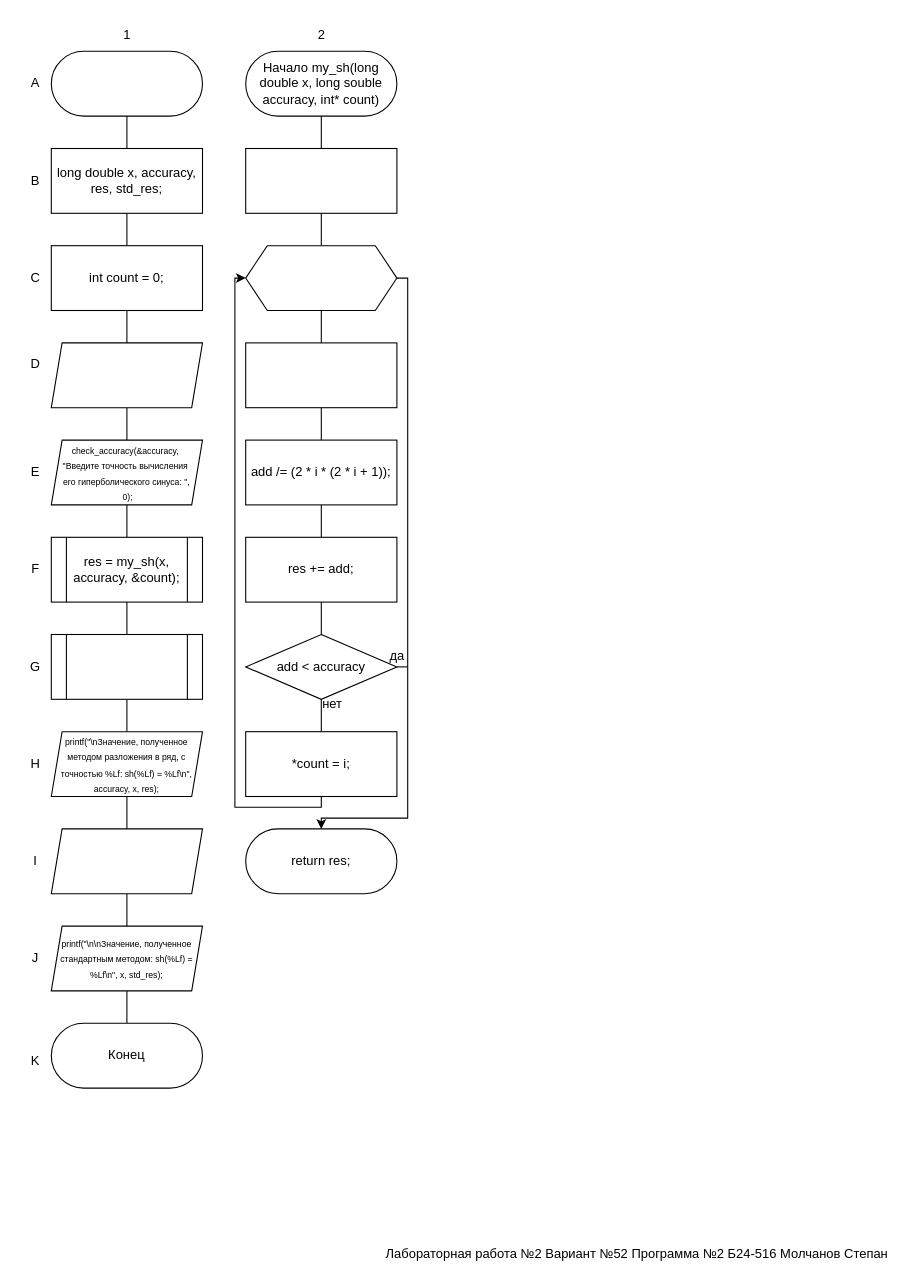
Image size: 919x1288. Some labels were removed from this diagram. Each missing label, with the centre of its shape:
add *= (x * x);: [321,375]
check_double(&x, "введите любое число: ");: [126,375]
int i = 1; ; i++: [321,277]
long double res = x, add = x;: [321,180]
printf("Количество членов ряда для вычисления: %d\n", count);: [126,861]
std_res = sinhl(x);: [126,666]
Начало: [126,83]
